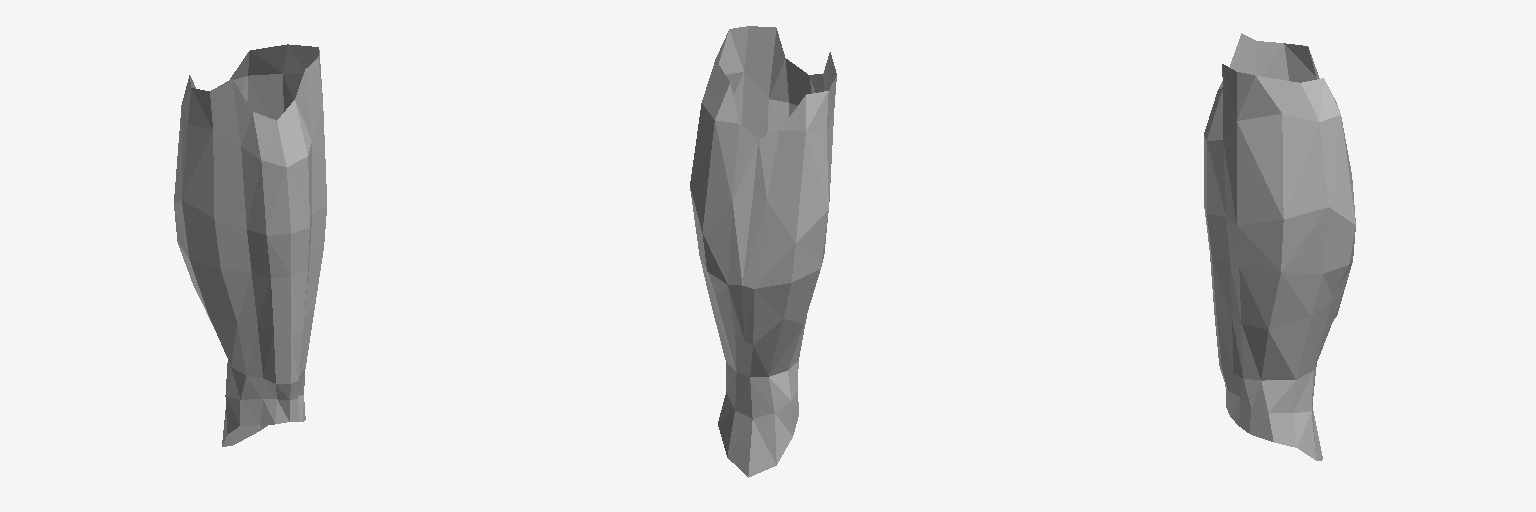
File: Leg_Lower_Left.obj
3 views of the same model, side by side, from view 1: azimuth 30°, elevation 25°; view 2: azimuth 150°, elevation 25°; view 3: azimuth 270°, elevation 25° (orthographic).
Visible parts, largest first — view 1: Leg_Lower_Cube.035; view 2: Leg_Lower_Cube.035; view 3: Leg_Lower_Cube.035.
Part boxes in pixels (x1,y1,x2,y2): Leg_Lower_Cube.035: (174,44,326,446); Leg_Lower_Cube.035: (690,26,836,477); Leg_Lower_Cube.035: (1204,33,1355,460).
Size of the model in its own units: 3.34 by 9.71 by 3.26.